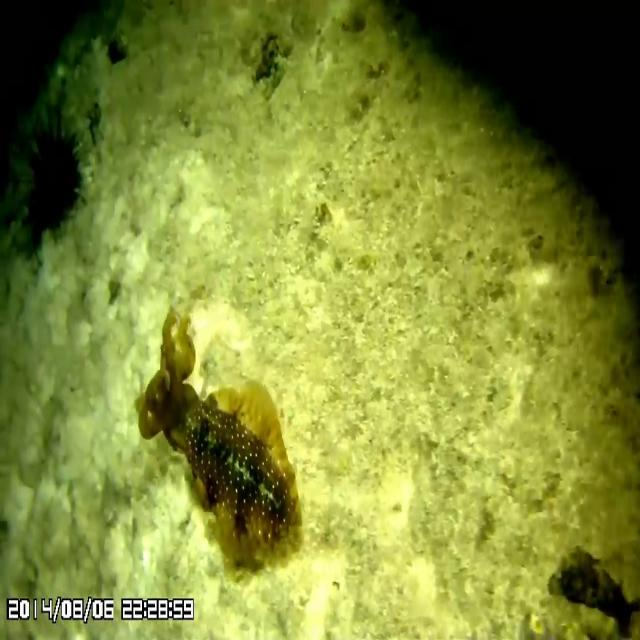squid: (138, 306, 302, 568)
